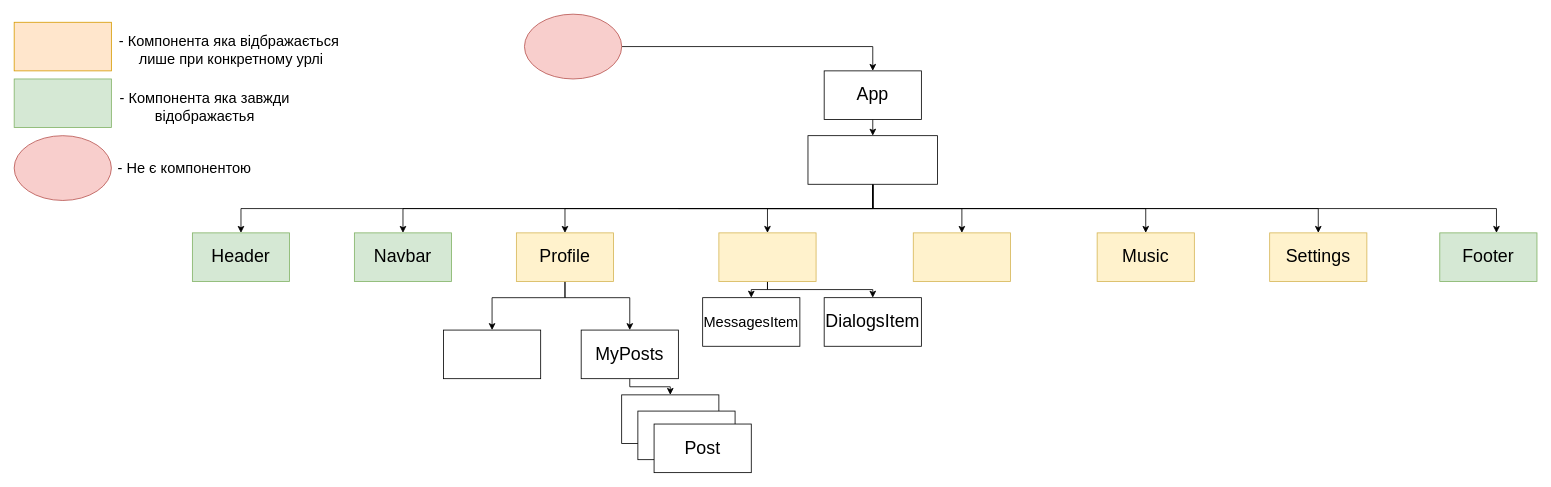
Some shapes in this 1551 by 487 pixel diagram are drawn without their labels. The shapes that lost their labels are listed below. From the top down, each one's box as (x1, y1, x2, y2) in pixels, then its label:
(524, 13, 622, 79): index.js
(807, 135, 938, 184): BrowserRouter
(718, 232, 816, 281): Dialogs
(912, 232, 1010, 281): News
(443, 329, 541, 379): ProfileInfo
